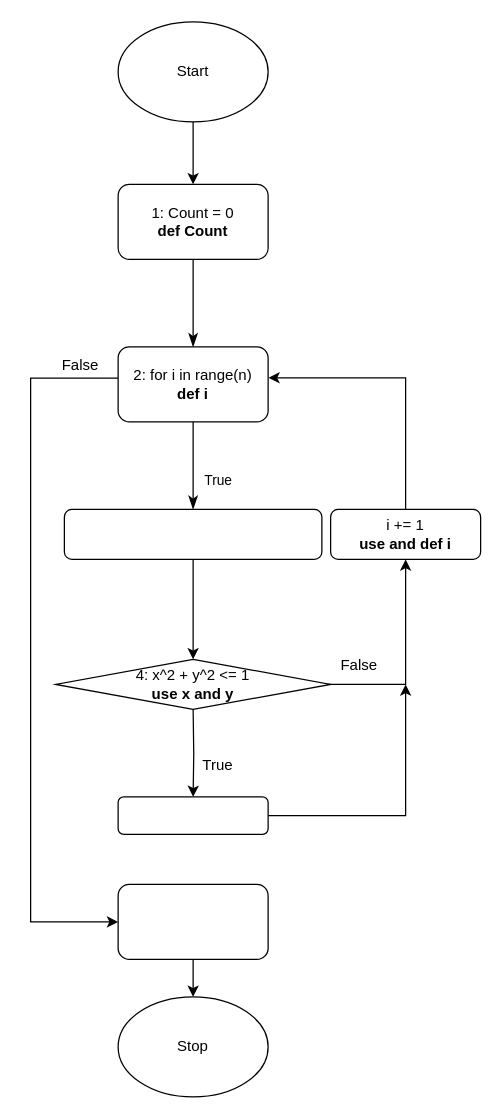
Some shapes in this 503 by 1119 pixel diagram are drawn without their labels. Here are the shapes that lost their labels. From the top down, the centre of each, then its label:
At (x=192, y=533): "3: x, y = random(-1,1), random(-1,1) def x and y".
At (x=192, y=815): "5: Count += 1 use and def Count".
At (x=192, y=921): "6: return 4 * count / n use count and n".
